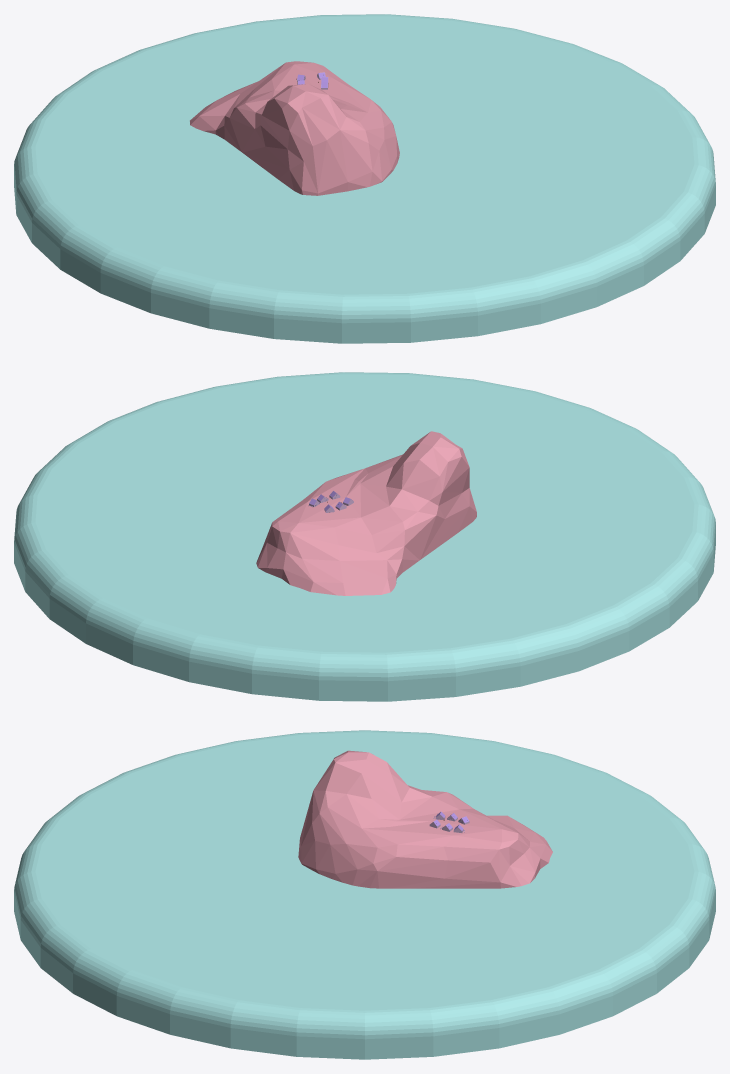
Rendered from village.glb.
The picture shows the model from 3 angles, top to bottom: view 1: azimuth 30°, elevation 25°; view 2: azimuth 150°, elevation 25°; view 3: azimuth 270°, elevation 25°; orthographic projection.
Parts seen in each view (by area): view 1: ocean, island; view 2: ocean, island; view 3: ocean, island.
Part boxes in pixels (x1,y1,x2,y2): ocean: [14, 14, 715, 343]; island: [190, 61, 399, 195]; ocean: [14, 372, 715, 701]; island: [256, 431, 476, 595]; ocean: [14, 730, 715, 1059]; island: [298, 750, 552, 888].
Bounding box in the file's own units: 38.4 × 7.62 × 38.4.
9 materials, 6 textured.
